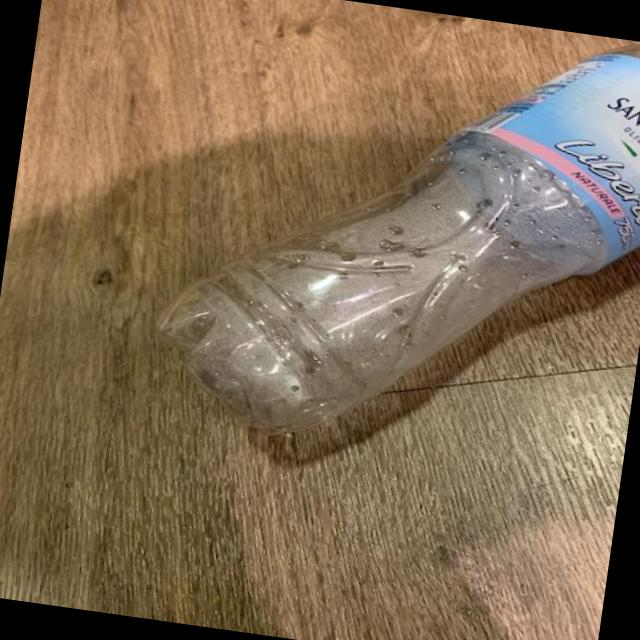BotolPlastik: (141, 0, 640, 483)
